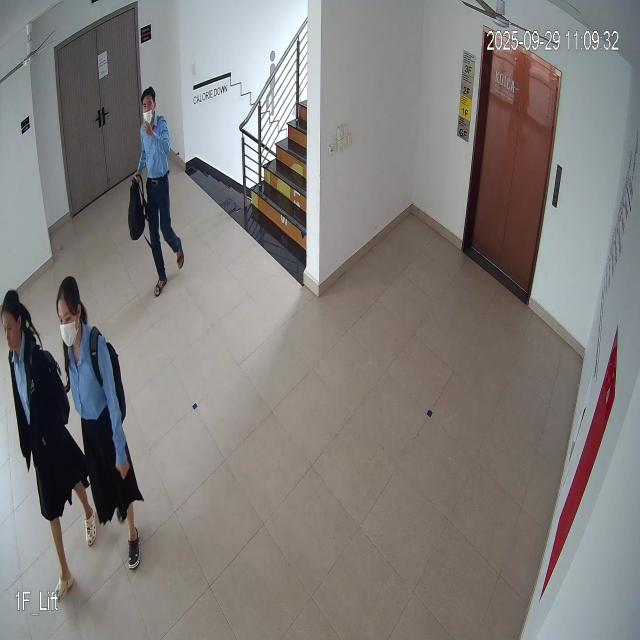face: (54, 263, 83, 357), (0, 285, 26, 360), (138, 87, 161, 131)
